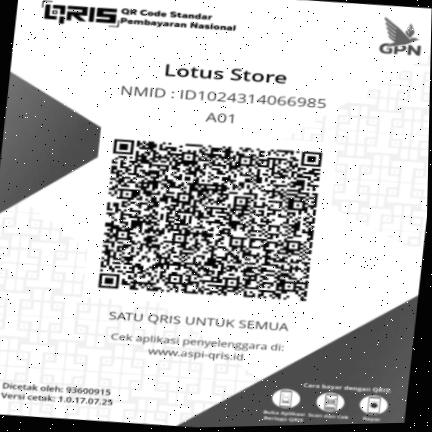Qris-Positioning: (0, 0, 432, 427)
